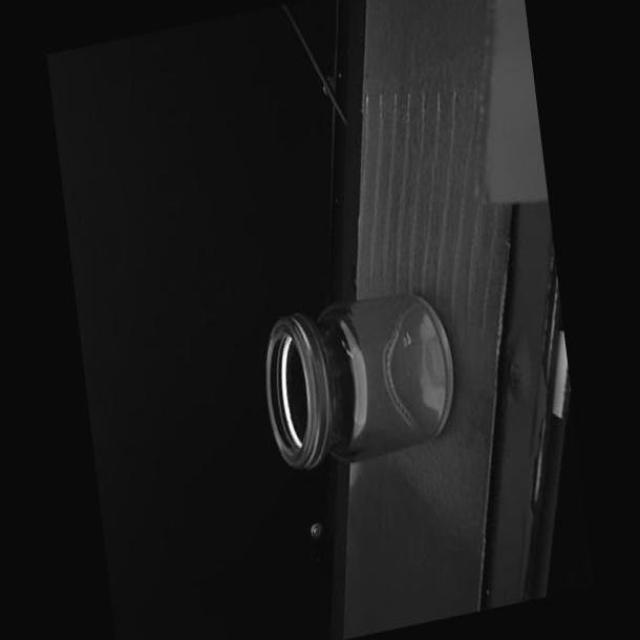defect: (340, 334, 354, 358)
glass: (253, 275, 466, 473)
